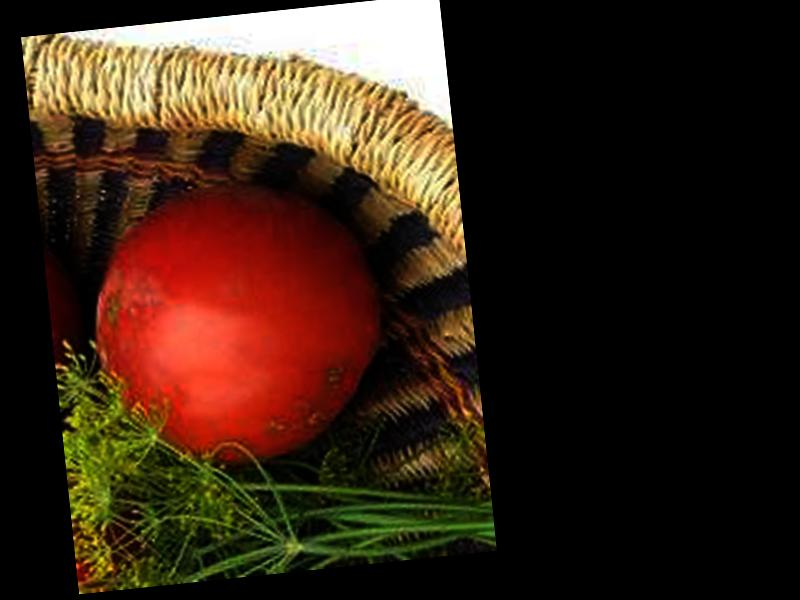Tomato: (80, 171, 392, 480)
